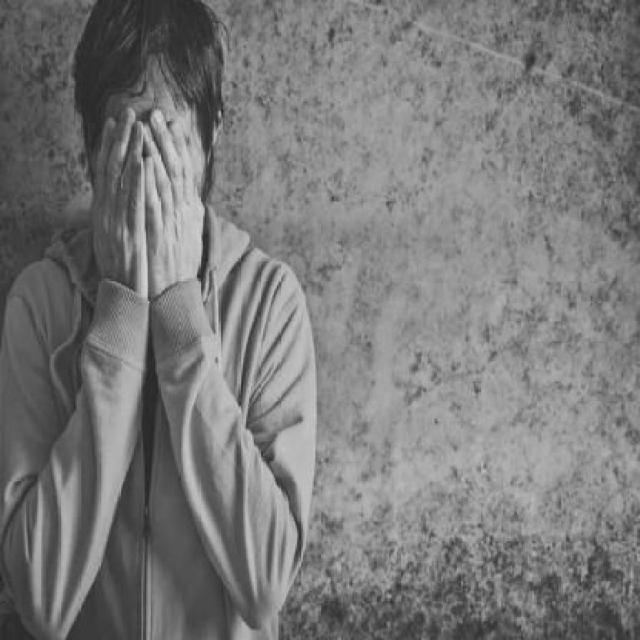hand_noglove: (138, 103, 202, 299), (86, 108, 146, 298)
head_nohelmet: (66, 0, 246, 115)
person: (6, 0, 323, 634)
